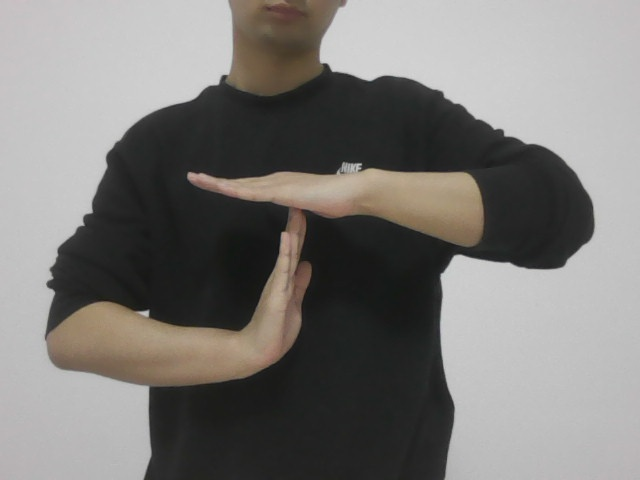stop: (148, 166, 377, 382)
